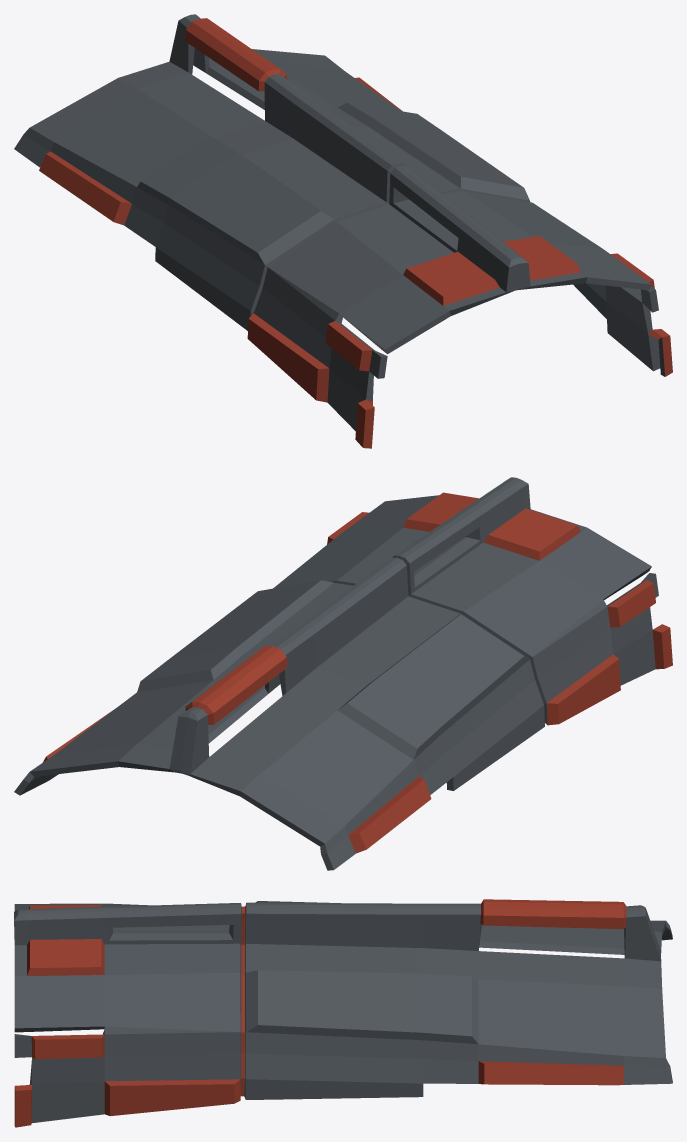
Rendered from Dropship_04_Top_Frame_Red.fbx.
The picture shows the model from 3 angles, top to bottom: view 1: azimuth 30°, elevation 25°; view 2: azimuth 150°, elevation 25°; view 3: azimuth 270°, elevation 25°; orthographic projection. The views are drawn at different scales.
Visible parts, largest first — view 1: Dropship_04_Top_Frame_Red; view 2: Dropship_04_Top_Frame_Red; view 3: Dropship_04_Top_Frame_Red.
Boxes of the visible parts, box(x1,y1,x2,y2) form: Dropship_04_Top_Frame_Red: box(14, 14, 672, 448); Dropship_04_Top_Frame_Red: box(14, 477, 672, 870); Dropship_04_Top_Frame_Red: box(14, 899, 672, 1127).
Size of the model in its own units: 437 by 208 by 798.
Materials: 1 (1 with a texture image).
